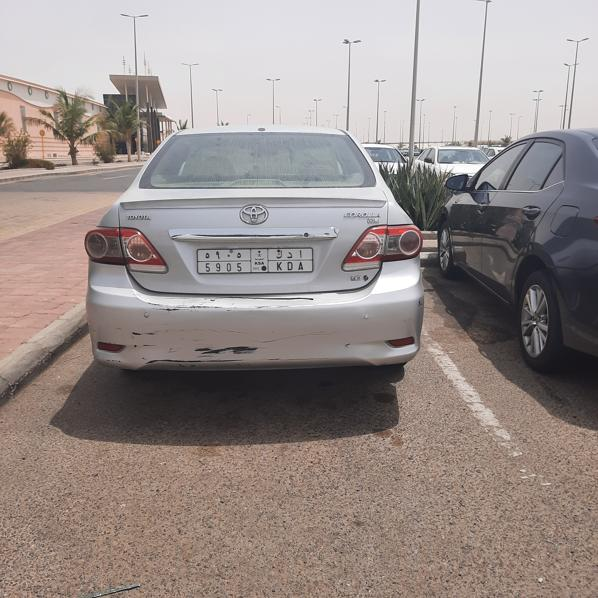numberplate: (195, 247, 315, 274)
